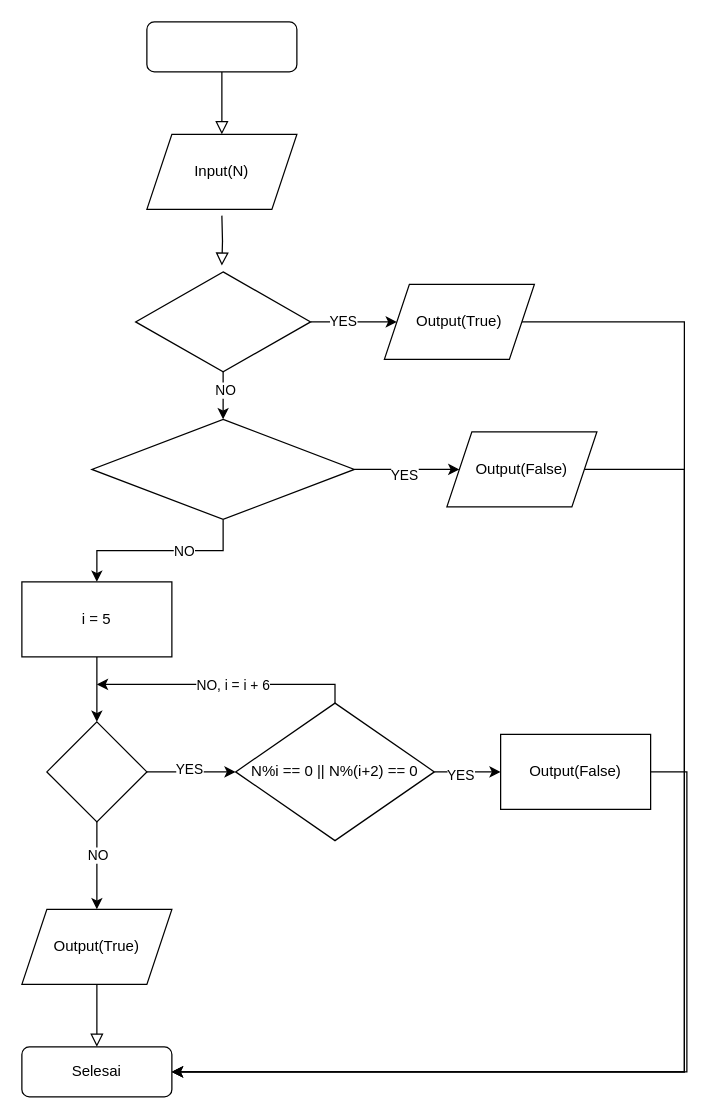
This 719x1119 diagram has some shape labels left out. Here are the shapes that lost their labels. From the top down, the box of each, then its label:
(146, 21, 297, 72): Mulai
(134, 271, 311, 372): N > 1 && N <=3
(91, 418, 354, 519): N <= 1 || N%2 == 0 || N%3 == 0
(46, 721, 147, 822): i * i <= N
